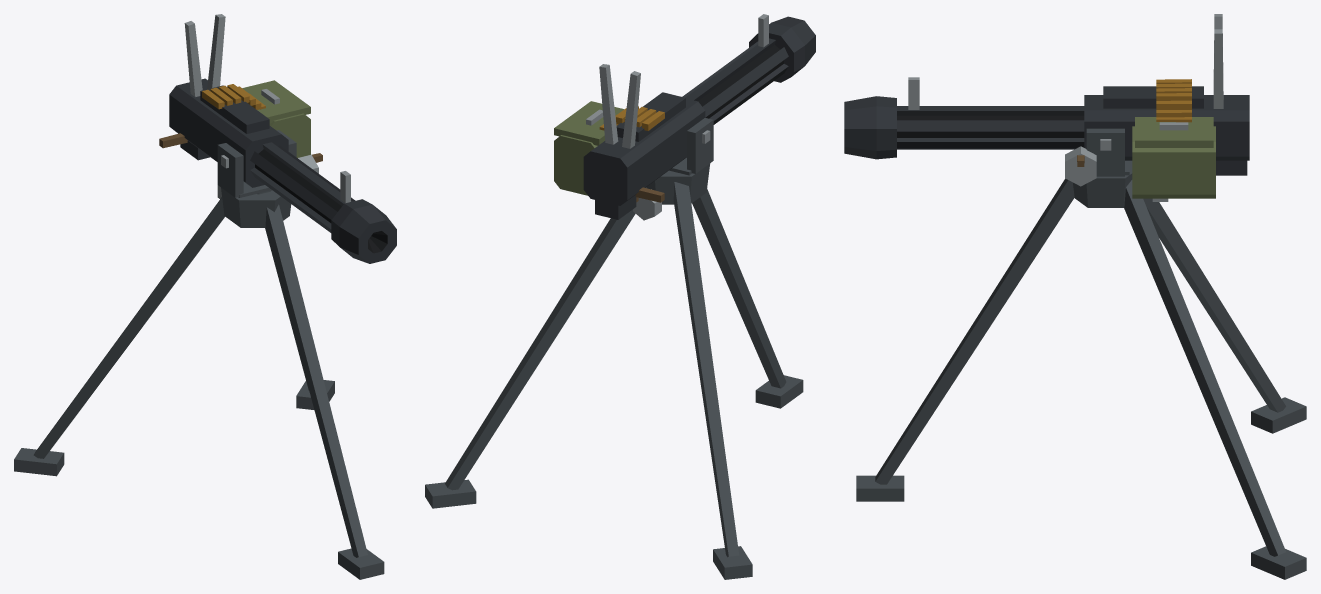
Rendered from tripod-machine-gun-80f906.glb.
3 views of the same model, side by side, from view 1: azimuth 30°, elevation 25°; view 2: azimuth 150°, elevation 25°; view 3: azimuth 270°, elevation 25° (orthographic). The views are drawn at different scales.
Visible parts, largest first — view 1: gun, tripod, ammo-box-mesh, cradle; view 2: tripod, gun, ammo-box-mesh, cradle; view 3: tripod, gun, ammo-box-mesh, cradle.
Part boxes in pixels (x1,y1,x2,y2): gun: [159, 14, 396, 263]; tripod: [14, 185, 384, 579]; ammo-box-mesh: [202, 80, 310, 157]; cradle: [217, 130, 322, 197]; tripod: [425, 163, 803, 579]; gun: [583, 14, 815, 219]; ammo-box-mesh: [554, 101, 664, 195]; cradle: [669, 118, 713, 175]; tripod: [856, 160, 1306, 579]; gun: [844, 14, 1249, 175]; ammo-box-mesh: [1132, 79, 1215, 198]; cradle: [1065, 128, 1129, 186].
Bounding box in the file's own units: 0.8372 × 1.09 × 0.9636.
